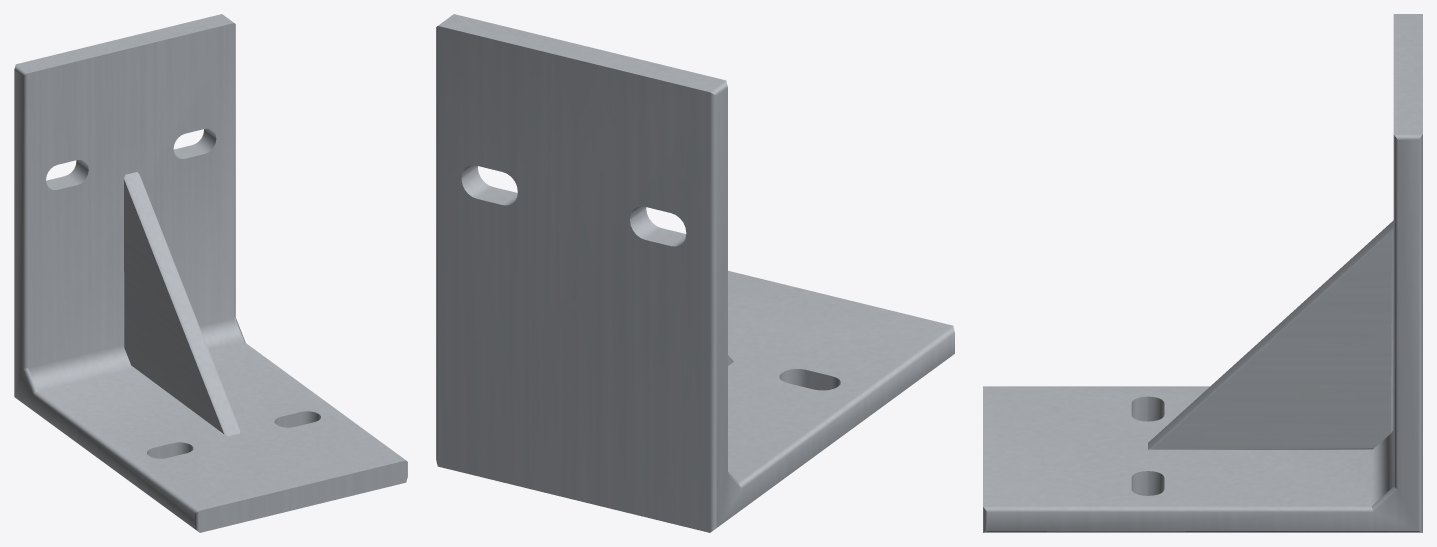
The model's file is SM_SuporteMetalico.glb.
3 renders of one model, left to right at view 1: azimuth 30°, elevation 25°; view 2: azimuth 150°, elevation 25°; view 3: azimuth 270°, elevation 25°, orthographic. The views are drawn at different scales.
Parts seen in each view (by area): view 1: SM_SuporteMetalico_Mesh; view 2: SM_SuporteMetalico_Mesh; view 3: SM_SuporteMetalico_Mesh.
Boxes of the visible parts, x1,y1,x2,y2 form: SM_SuporteMetalico_Mesh: (14, 14, 407, 532); SM_SuporteMetalico_Mesh: (436, 14, 954, 532); SM_SuporteMetalico_Mesh: (983, 14, 1422, 532).
Bounding box in the file's own units: 0.08 × 0.12 × 0.12.
1 material, 1 textured.
